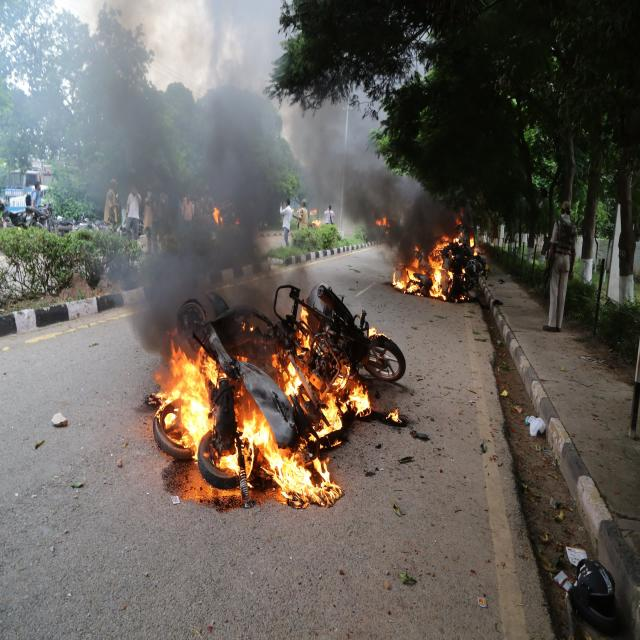fire: (215, 363, 345, 509), (145, 326, 216, 462), (392, 246, 453, 301), (228, 322, 296, 363), (296, 296, 328, 364), (346, 368, 371, 417)
